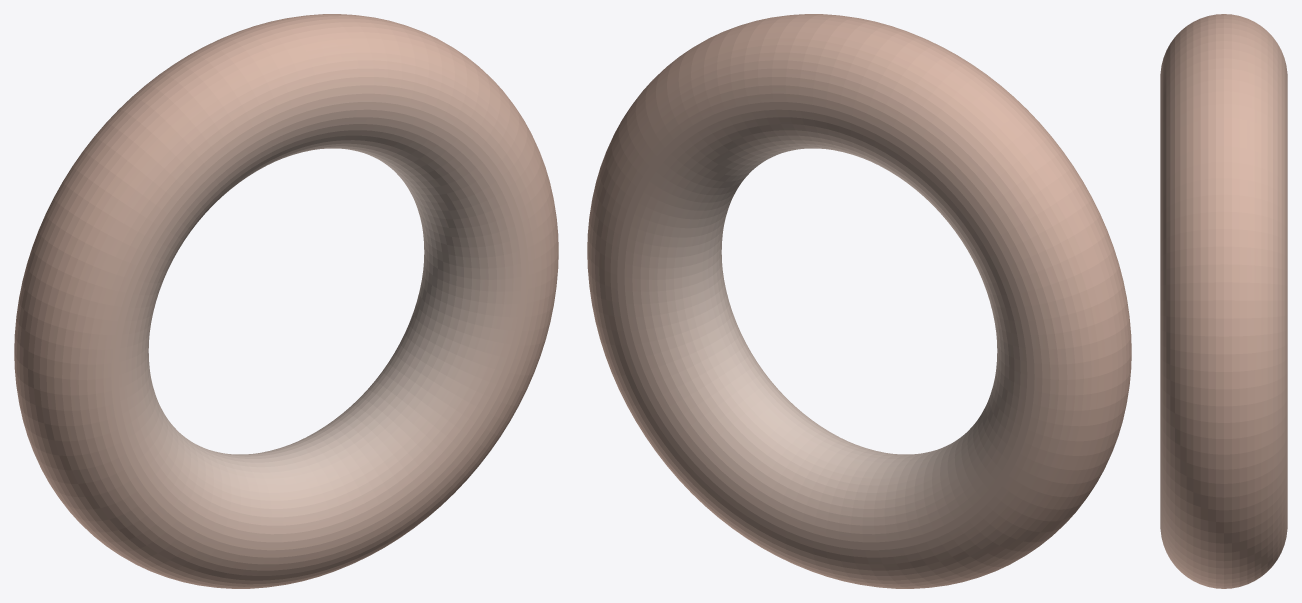
3 views of the same model, side by side, from view 1: azimuth 30°, elevation 25°; view 2: azimuth 150°, elevation 25°; view 3: azimuth 270°, elevation 25° (orthographic). The views are drawn at different scales.
Parts seen in each view (by area): view 1: world; view 2: world; view 3: world.
Part boxes in pixels (box(x1,y1,x2,y2)): world: box(14, 14, 558, 588); world: box(587, 14, 1131, 588); world: box(1160, 14, 1287, 588).
Size of the model in its own units: 16.27 by 16.27 by 3.59.
